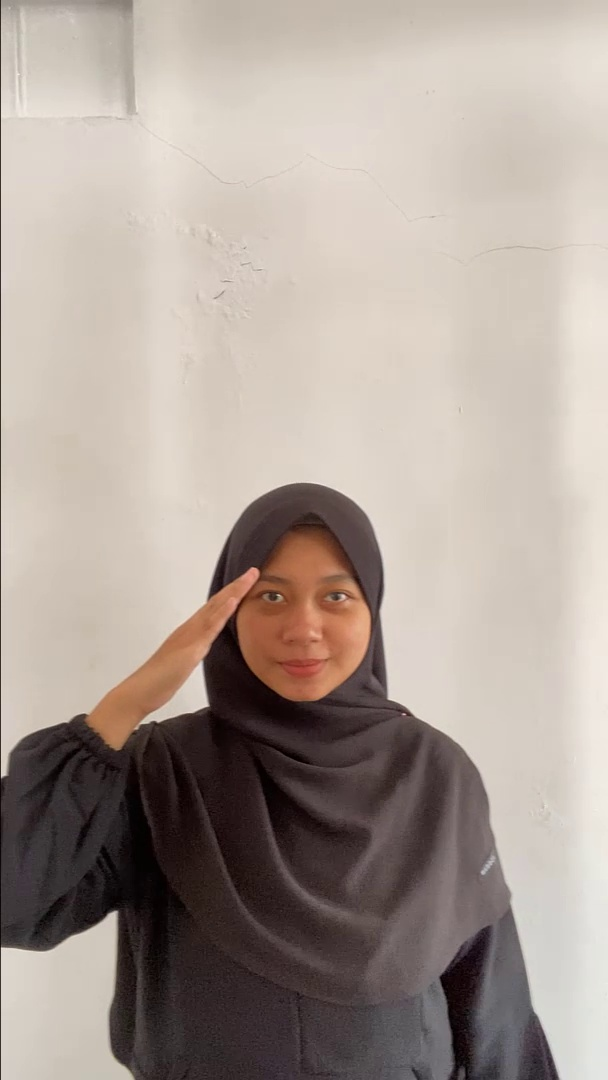SENIN: (66, 556, 271, 777)
